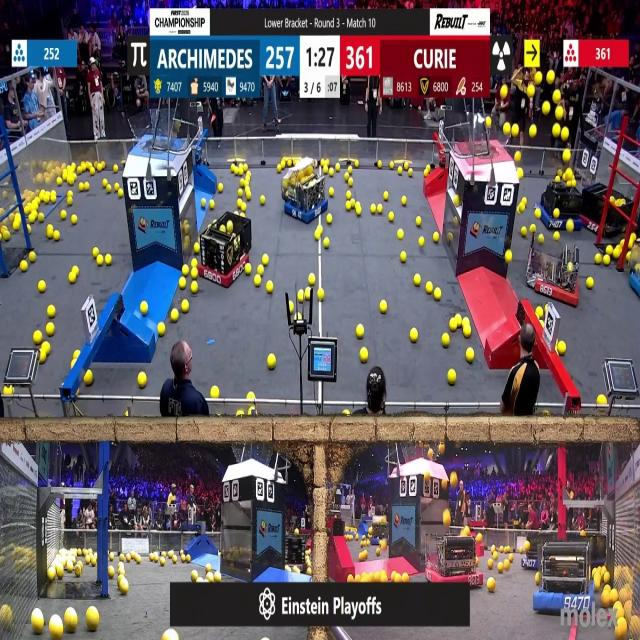ball_airborne: (444, 512, 452, 528), (556, 106, 564, 120), (450, 472, 458, 486), (562, 128, 569, 143), (554, 125, 562, 138), (541, 102, 549, 115), (534, 72, 542, 85), (554, 91, 561, 105), (563, 149, 571, 161), (546, 71, 553, 84), (500, 87, 507, 100), (528, 86, 535, 98), (513, 125, 520, 137), (530, 126, 537, 138), (439, 444, 446, 456), (503, 124, 509, 136), (566, 169, 572, 180), (516, 151, 522, 161), (428, 449, 433, 459), (424, 470, 429, 480), (487, 119, 492, 128)
ball_ground: (32, 611, 45, 636), (66, 612, 79, 635), (88, 610, 100, 632), (53, 618, 65, 640), (617, 620, 628, 640), (601, 591, 610, 608), (118, 580, 128, 595), (138, 373, 147, 388), (86, 371, 95, 386), (449, 370, 457, 386), (34, 332, 43, 346), (269, 354, 277, 369), (360, 348, 368, 362), (411, 328, 419, 342), (443, 334, 451, 348), (558, 342, 566, 356), (488, 579, 496, 593), (357, 326, 364, 341), (466, 349, 474, 362), (211, 385, 219, 398), (141, 302, 148, 316), (462, 325, 470, 337), (171, 310, 179, 322), (380, 302, 388, 314), (504, 250, 512, 262), (46, 322, 54, 334), (450, 319, 458, 331), (602, 572, 610, 584), (159, 322, 166, 335), (47, 306, 54, 319), (41, 343, 49, 354), (38, 280, 45, 292), (181, 302, 188, 314), (434, 288, 441, 300), (190, 281, 197, 293), (317, 288, 324, 300), (414, 275, 421, 287), (19, 262, 26, 274), (426, 282, 433, 294), (309, 274, 316, 286), (39, 352, 46, 364), (566, 220, 573, 232), (12, 219, 19, 231), (598, 394, 606, 404), (180, 278, 187, 289), (253, 276, 260, 287), (536, 308, 543, 319), (315, 230, 322, 241), (214, 571, 221, 582), (190, 570, 197, 581), (75, 565, 82, 576), (268, 281, 274, 293), (288, 302, 294, 314), (297, 289, 303, 301), (6, 386, 14, 395), (164, 632, 173, 640), (610, 590, 616, 602), (105, 254, 112, 264), (603, 255, 610, 265), (189, 270, 196, 280), (29, 252, 36, 262), (108, 567, 115, 577), (54, 232, 61, 242), (93, 247, 100, 257), (2, 232, 9, 242), (355, 572, 362, 582), (68, 175, 75, 185), (394, 571, 401, 581), (381, 571, 388, 581), (362, 571, 369, 581), (588, 278, 594, 289), (400, 251, 406, 262), (596, 253, 602, 264), (264, 254, 270, 265), (416, 216, 422, 227), (386, 212, 392, 223), (305, 289, 311, 300), (70, 274, 76, 285), (182, 267, 188, 278), (534, 573, 540, 584), (346, 202, 353, 211), (37, 213, 44, 222), (245, 190, 252, 199), (237, 200, 244, 209), (462, 318, 469, 327), (359, 553, 366, 562), (323, 238, 329, 248), (432, 234, 438, 244), (257, 266, 263, 276), (538, 235, 544, 245), (98, 255, 104, 265), (83, 184, 89, 194), (522, 226, 528, 236), (246, 266, 252, 276), (74, 350, 80, 360), (50, 191, 56, 201), (46, 230, 52, 240), (503, 560, 509, 570), (30, 212, 36, 222), (615, 248, 621, 258), (606, 246, 612, 256), (247, 392, 254, 400), (190, 258, 197, 266), (602, 586, 610, 593), (419, 238, 425, 247), (400, 197, 406, 206), (530, 223, 536, 232), (259, 197, 265, 206), (402, 572, 408, 581), (348, 178, 354, 187), (61, 211, 67, 220), (397, 231, 403, 240), (488, 560, 494, 569), (348, 166, 354, 175), (117, 188, 123, 197), (192, 244, 198, 253), (356, 205, 361, 215), (326, 214, 331, 224), (370, 204, 375, 214), (230, 163, 235, 173), (498, 562, 503, 572), (348, 574, 354, 582), (68, 198, 74, 206), (72, 267, 78, 275), (78, 182, 84, 190), (161, 558, 167, 566), (536, 210, 542, 218), (296, 313, 302, 321), (119, 568, 125, 576), (519, 205, 525, 213), (628, 239, 634, 247), (108, 554, 114, 562), (504, 544, 510, 552), (555, 233, 560, 242), (72, 215, 77, 224), (378, 205, 383, 214), (328, 187, 333, 196), (58, 177, 63, 186), (239, 188, 244, 197), (28, 224, 33, 233), (93, 557, 98, 566), (136, 556, 141, 565), (68, 190, 74, 197), (397, 168, 403, 175), (172, 557, 178, 564), (492, 553, 498, 560), (344, 411, 350, 418), (499, 545, 505, 552), (238, 412, 245, 418), (384, 190, 388, 200), (218, 183, 223, 191), (347, 190, 352, 198), (202, 200, 207, 208), (107, 184, 112, 192), (101, 180, 106, 188), (240, 178, 245, 186), (328, 169, 333, 177), (631, 234, 636, 242), (354, 162, 359, 170), (207, 564, 212, 572), (378, 162, 383, 170), (522, 198, 527, 206), (114, 183, 119, 191), (71, 360, 76, 368), (242, 162, 246, 172), (210, 201, 214, 210), (507, 555, 513, 561), (246, 172, 252, 178), (113, 166, 118, 173), (409, 170, 414, 177), (323, 168, 328, 175), (308, 567, 312, 575), (186, 555, 190, 563), (424, 170, 428, 178), (92, 168, 96, 176), (337, 165, 341, 173), (277, 164, 281, 172), (492, 544, 496, 552), (539, 319, 543, 327), (449, 234, 453, 242), (377, 549, 381, 557), (123, 413, 128, 419), (387, 161, 391, 168), (119, 555, 123, 562), (406, 161, 410, 168), (580, 533, 584, 540), (99, 162, 103, 168), (248, 411, 252, 417)
goal: (128, 115, 186, 152), (461, 120, 514, 158)
robot_blue: (535, 539, 591, 611), (283, 162, 329, 222), (538, 176, 584, 233), (629, 239, 640, 299), (522, 540, 541, 571), (370, 518, 391, 546)
robot_red: (198, 212, 251, 286), (528, 241, 581, 307), (428, 527, 483, 587), (283, 528, 309, 570)
